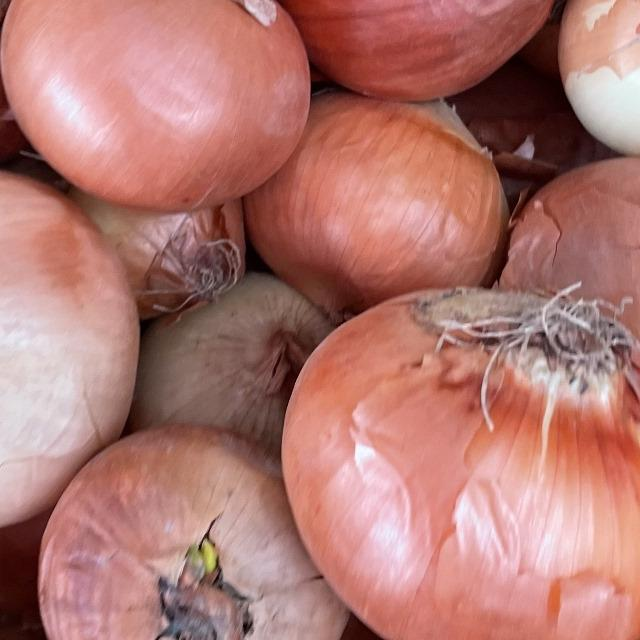onion: (267, 272, 640, 640), (0, 0, 342, 207), (40, 415, 337, 640), (0, 140, 155, 537)
